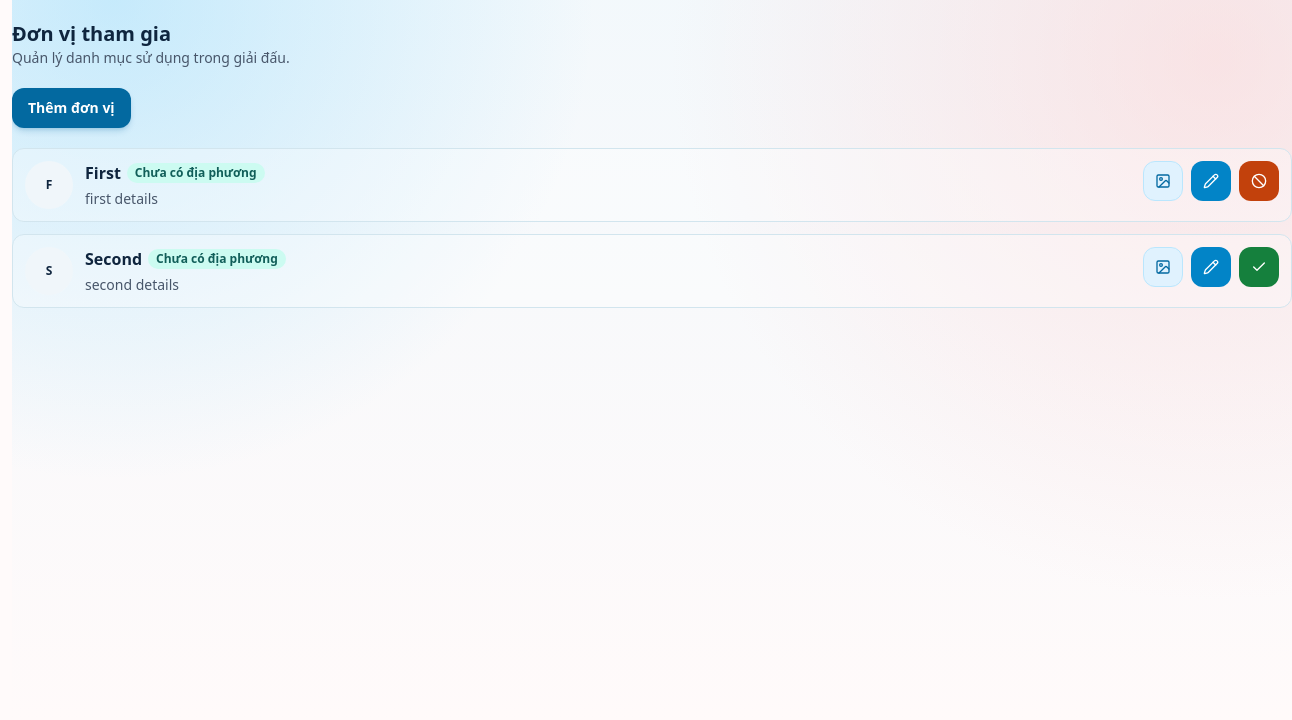
Test: RosterItemsPage › cancels editing without a mutation and clears the draft
Click the button named "Sửa" in the row of "first details".
click(1211, 181)  # box [1191,161,1231,201]
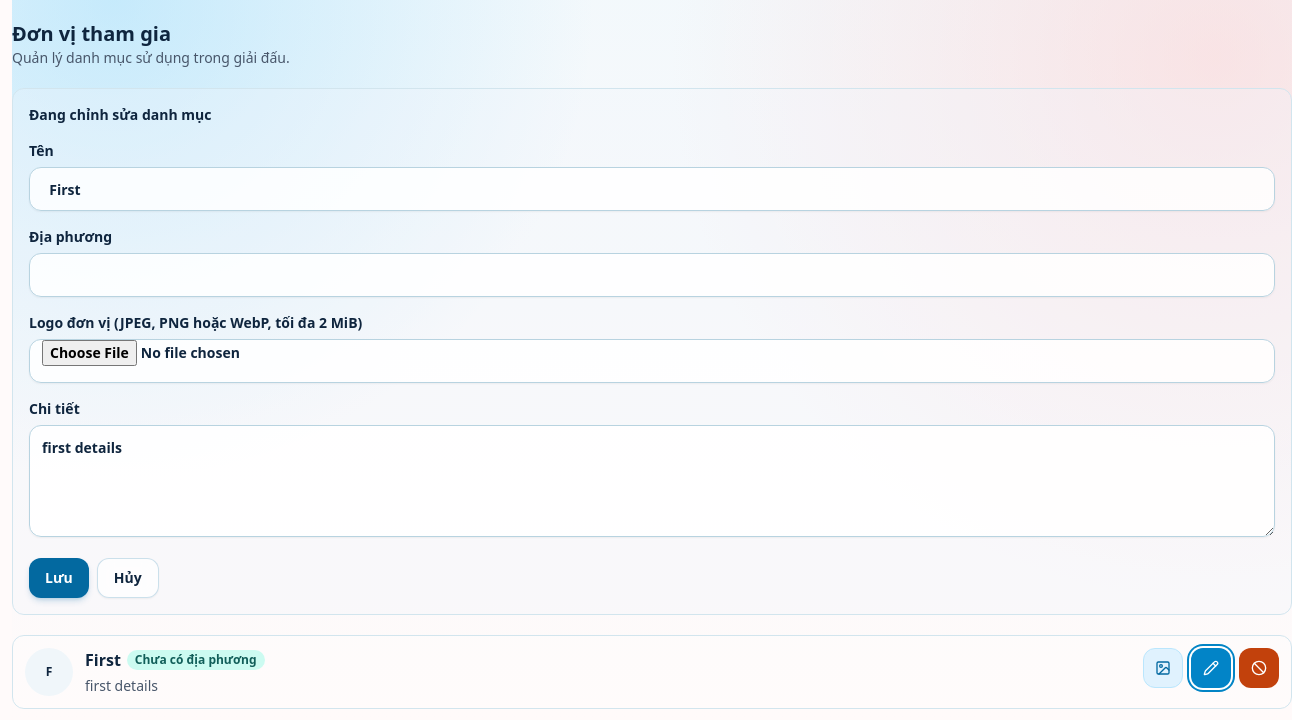
Click the button "Hủy".
click(128, 578)  # box [97,558,159,598]
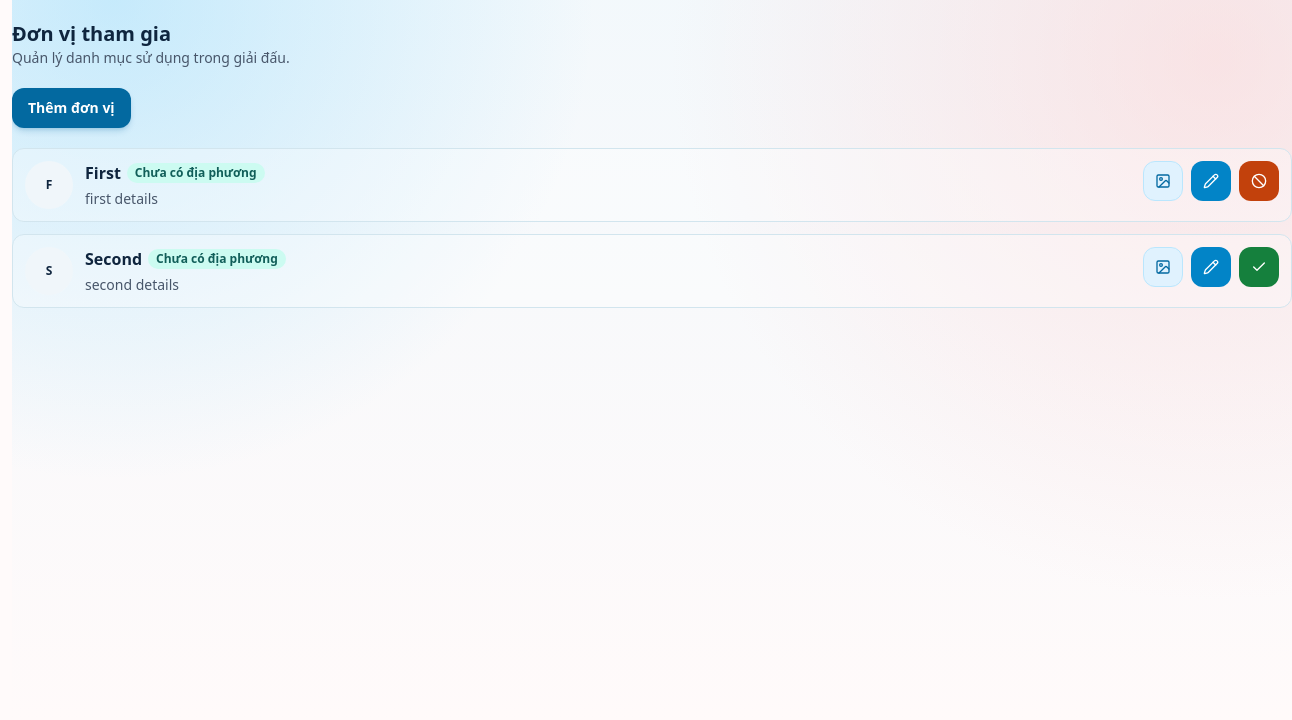
Check: the label labelled "Tên" is gone
